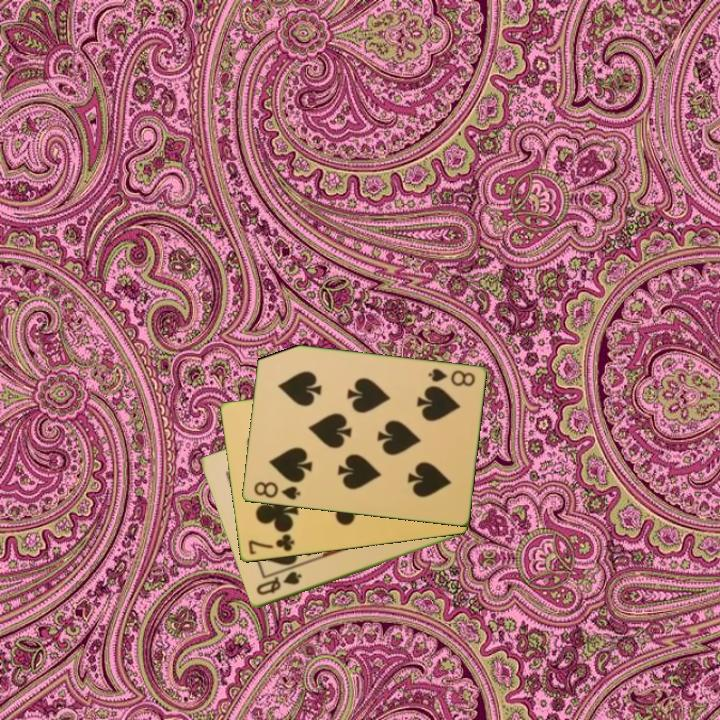7c: (244, 531, 297, 558)
8s: (424, 365, 478, 390), (250, 478, 303, 503)
Qs: (252, 568, 305, 598)
